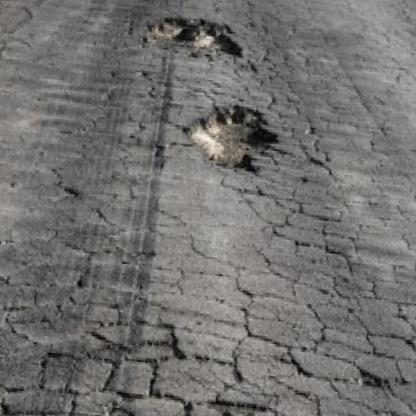pothole: (180, 95, 282, 176), (140, 11, 247, 58)
